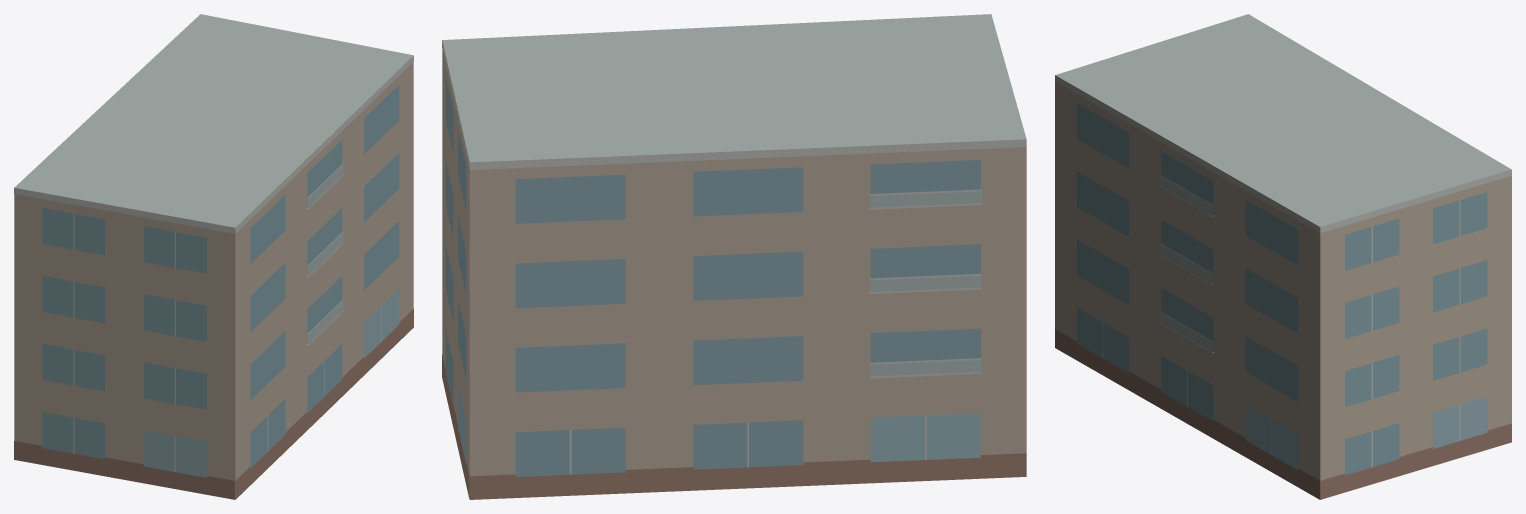
Rendered from survey-upis-32679554.glb.
3 views of the same model, side by side, from view 1: azimuth 30°, elevation 25°; view 2: azimuth 150°, elevation 25°; view 3: azimuth 270°, elevation 25° (orthographic). The views are drawn at different scales.
Visible parts, largest first — view 1: survey-upis-32679554.tmp; view 2: survey-upis-32679554.tmp; view 3: survey-upis-32679554.tmp.
Part boxes in pixels (bbox=[...]): survey-upis-32679554.tmp: bbox=[14, 14, 413, 499]; survey-upis-32679554.tmp: bbox=[442, 14, 1026, 499]; survey-upis-32679554.tmp: bbox=[1055, 14, 1511, 499].
Size of the model in its own units: 17.93 by 10.7 by 16.24.
